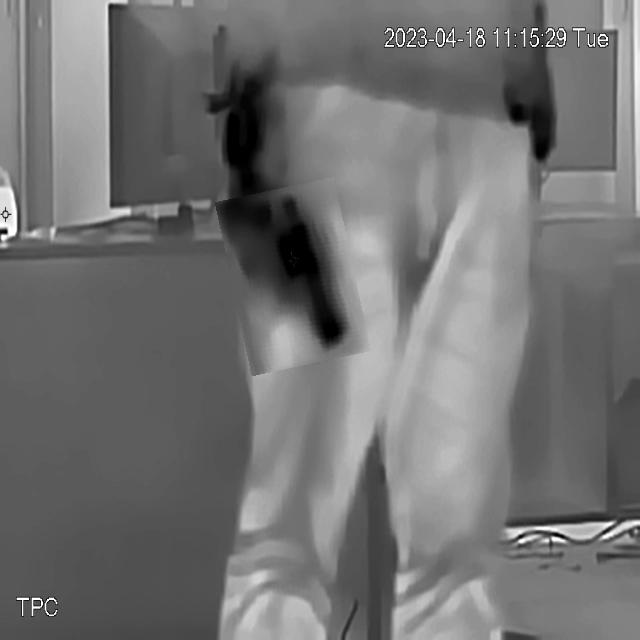Weapon: (224, 182, 362, 372)
